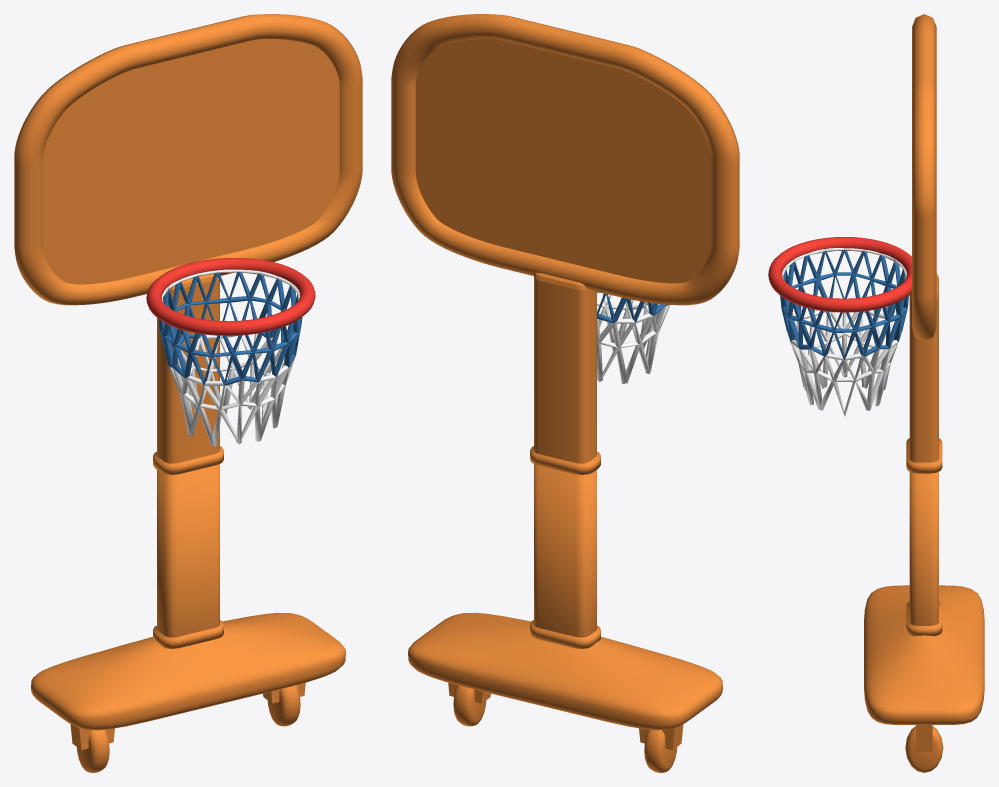
The model's file is brokenbasketballhoop.fbx.
3 views of the same model, side by side, from view 1: azimuth 30°, elevation 25°; view 2: azimuth 150°, elevation 25°; view 3: azimuth 270°, elevation 25° (orthographic). The views are drawn at different scales.
Parts seen in each view (by area): view 1: basketballtop, hoopbottom, basketballnet, hoopbody2, basketballbody1, basketballring, basketballbody3; view 2: basketballtop, hoopbottom, basketballbody1, hoopbody2, basketballnet, basketballbody3; view 3: hoopbottom, basketballnet, basketballtop, hoopbody2, basketballring, basketballbody1, basketballbody3.
Boxes of the visible parts, box(x1,y1,x2,y2) form: basketballtop: box(14, 14, 362, 305); hoopbottom: box(31, 612, 345, 772); basketballnet: box(159, 269, 302, 446); hoopbody2: box(153, 464, 223, 648); basketballbody1: box(157, 273, 219, 463); basketballring: box(146, 258, 315, 335); basketballbody3: box(153, 446, 223, 474); basketballtop: box(391, 14, 739, 305); hoopbottom: box(408, 612, 722, 772); basketballbody1: box(534, 272, 596, 463); hoopbody2: box(530, 464, 600, 648); basketballnet: box(597, 291, 669, 383); basketballbody3: box(530, 446, 600, 474); hoopbottom: box(864, 585, 984, 772); basketballnet: box(780, 248, 908, 416); basketballtop: box(912, 14, 936, 340); hoopbody2: box(906, 471, 942, 636); basketballring: box(768, 237, 911, 312); basketballbody1: box(909, 273, 938, 462); basketballbody3: box(906, 438, 942, 473).
Bounding box in the file's own units: 180 × 355 × 104.
